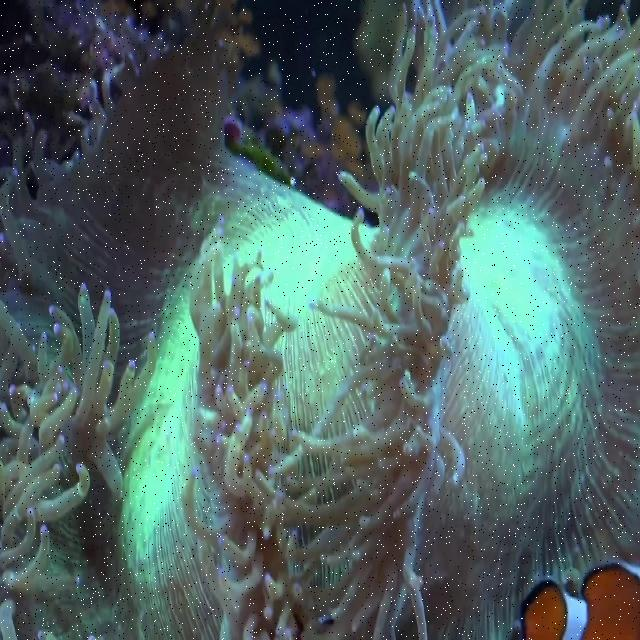fish: (513, 562, 639, 638)
reefs: (1, 0, 638, 638)
